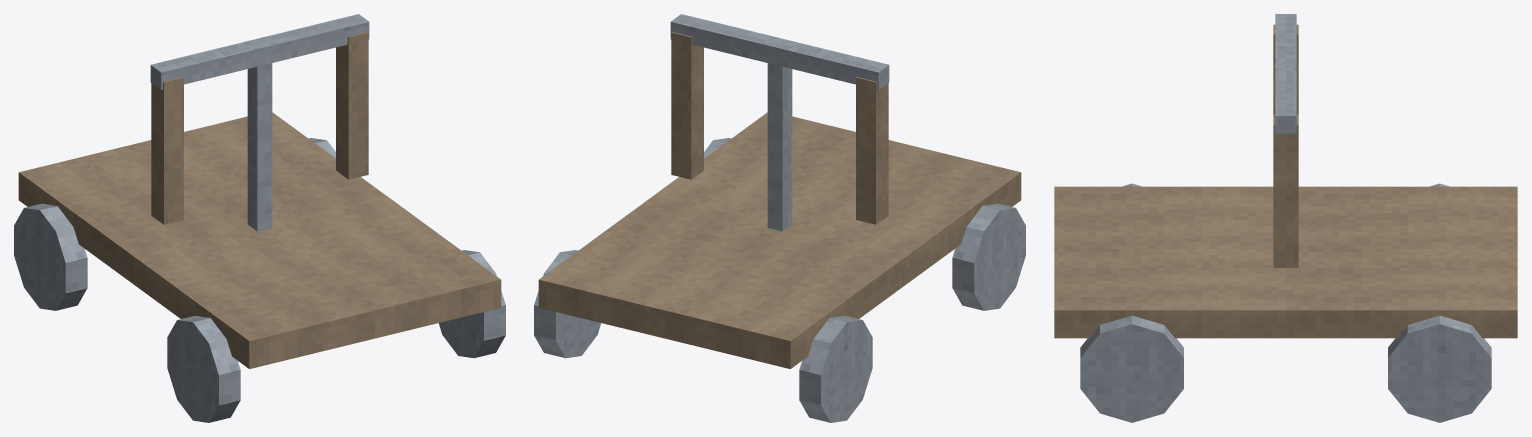
File: level_blockout_rail_handcar.glb
The picture shows the model from 3 angles, left to right: view 1: azimuth 30°, elevation 25°; view 2: azimuth 150°, elevation 25°; view 3: azimuth 270°, elevation 25°; orthographic projection.
Parts seen in each view (by area): view 1: level_blockout_rail_handcar; view 2: level_blockout_rail_handcar; view 3: level_blockout_rail_handcar.
Part boxes in pixels (bbox=[...]): level_blockout_rail_handcar: bbox=[14, 14, 505, 422]; level_blockout_rail_handcar: bbox=[534, 14, 1025, 422]; level_blockout_rail_handcar: bbox=[1054, 14, 1517, 422].
Bounding box in the file's own units: 1.71 × 1.63 × 2.38.
2 materials, 2 textured.
